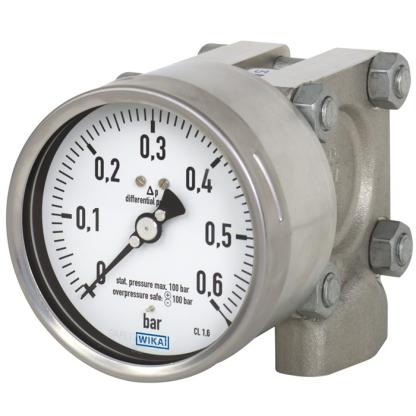needle: (79, 242, 134, 299)
